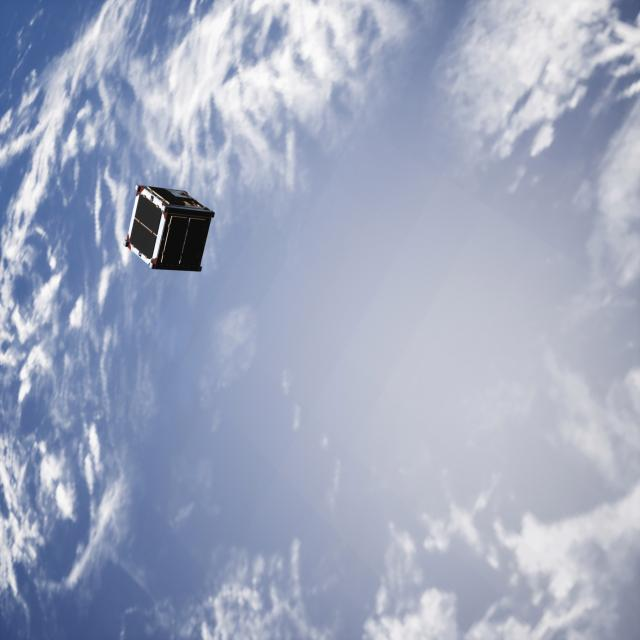satellite: (116, 181, 222, 277)
